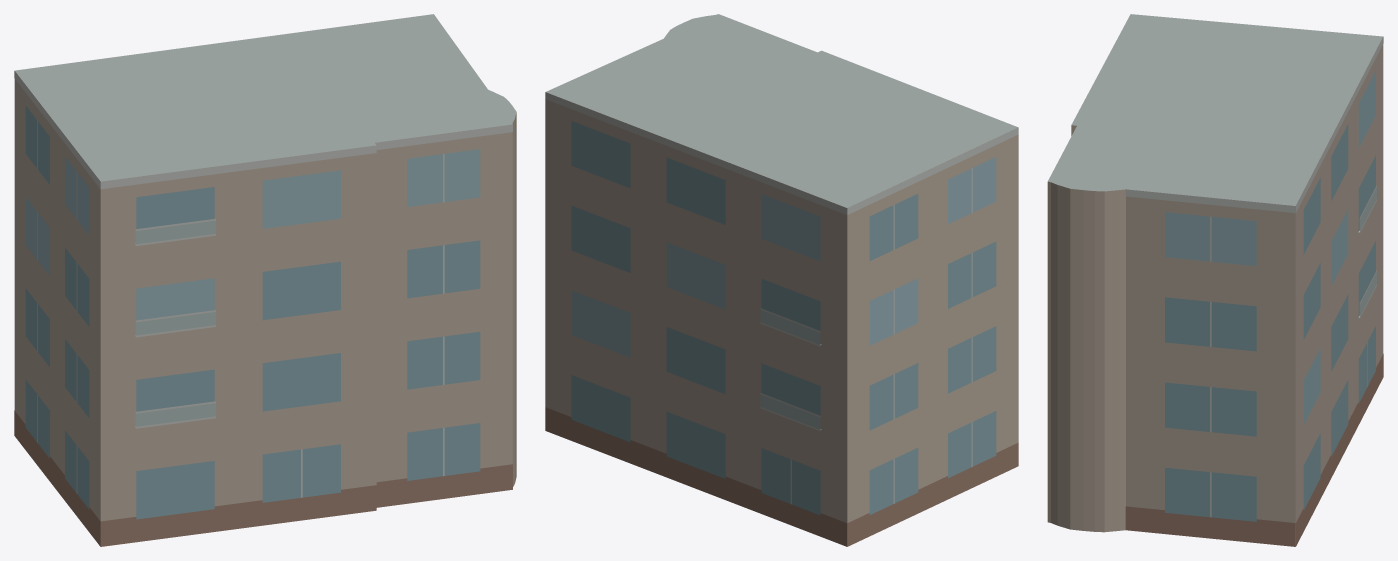
The model's file is survey-upis-32806321.glb.
3 renders of one model, left to right at view 1: azimuth 30°, elevation 25°; view 2: azimuth 150°, elevation 25°; view 3: azimuth 270°, elevation 25°, orthographic. The views are drawn at different scales.
Visible parts, largest first — view 1: survey-upis-32806321.tmp; view 2: survey-upis-32806321.tmp; view 3: survey-upis-32806321.tmp.
Boxes of the visible parts, bbox=[...] form: survey-upis-32806321.tmp: bbox=[14, 14, 516, 546]; survey-upis-32806321.tmp: bbox=[545, 14, 1018, 546]; survey-upis-32806321.tmp: bbox=[1047, 14, 1383, 546].
Bounding box in the file's own units: 14.15 × 11.7 × 10.45.
